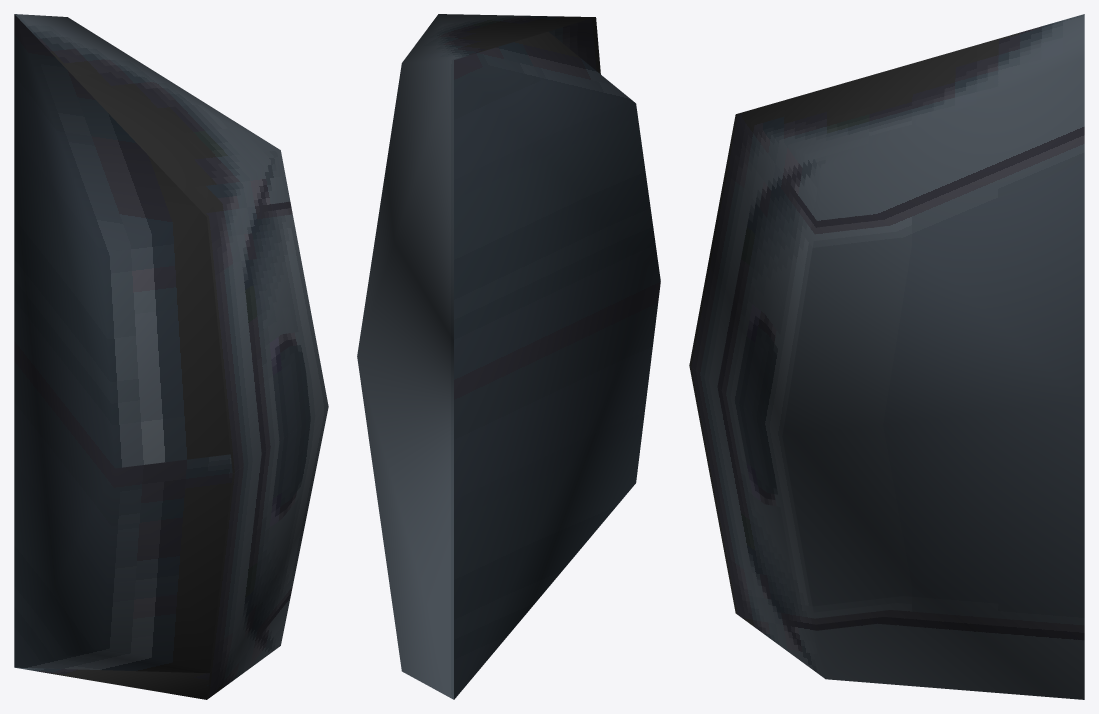
File: acc_HMD.dae
3 views of the same model, side by side, from view 1: azimuth 30°, elevation 25°; view 2: azimuth 150°, elevation 25°; view 3: azimuth 270°, elevation 25° (orthographic). The views are drawn at different scales.
Parts seen in each view (by area): view 1: acc_HMD; view 2: acc_HMD; view 3: acc_HMD.
Boxes of the visible parts, x1=… form: acc_HMD: x1=14, y1=14, x2=328, y2=699; acc_HMD: x1=357, y1=14, x2=660, y2=699; acc_HMD: x1=689, y1=14, x2=1084, y2=699.
Size of the model in its own units: 9.86 by 27.57 by 14.62.
Materials: 1 (1 with a texture image).
